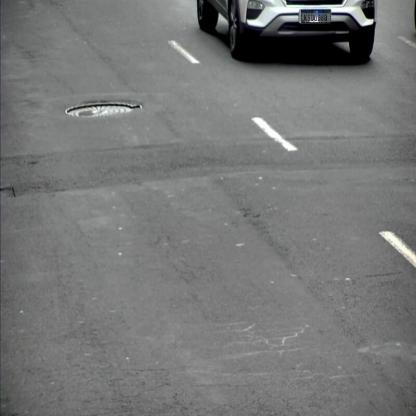PlacaM: (301, 10, 331, 23)
